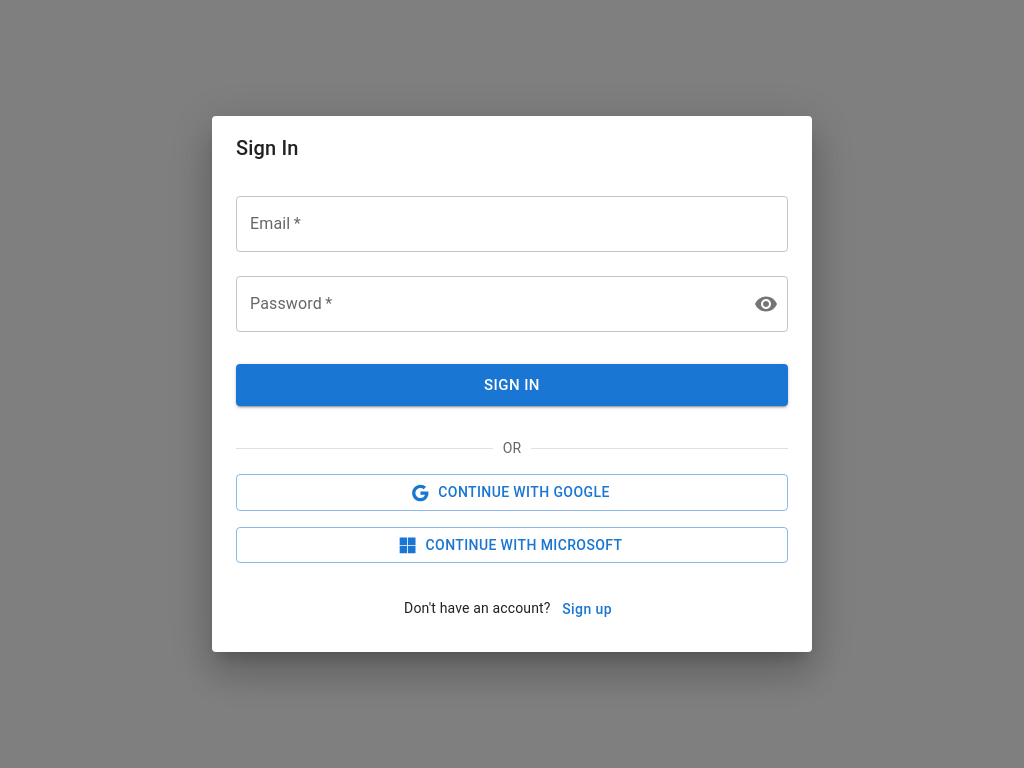
Test: AuthModal › shows loading state during form submission
The image size is (1024, 768).
Type "test@example.com" into the field labelled "Email *" at {"x": 512, "y": 224}, box [236,196,788,252]
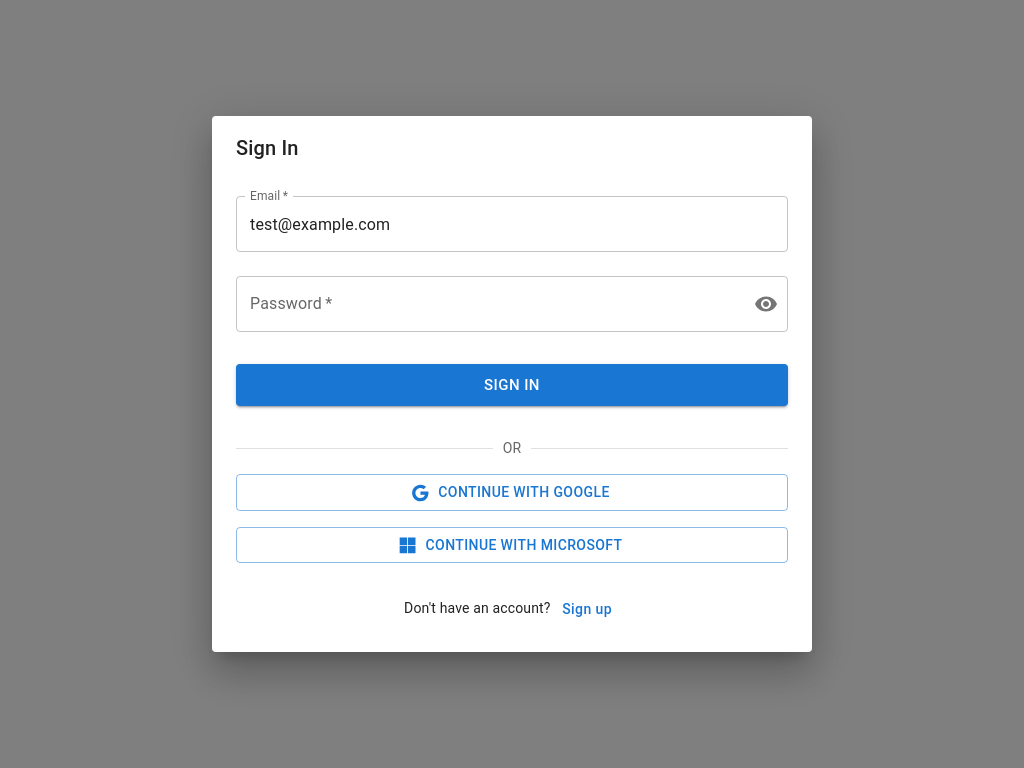
Type "password123" into the password field labelled "Password *" at {"x": 487, "y": 304}, box [236,276,738,332]
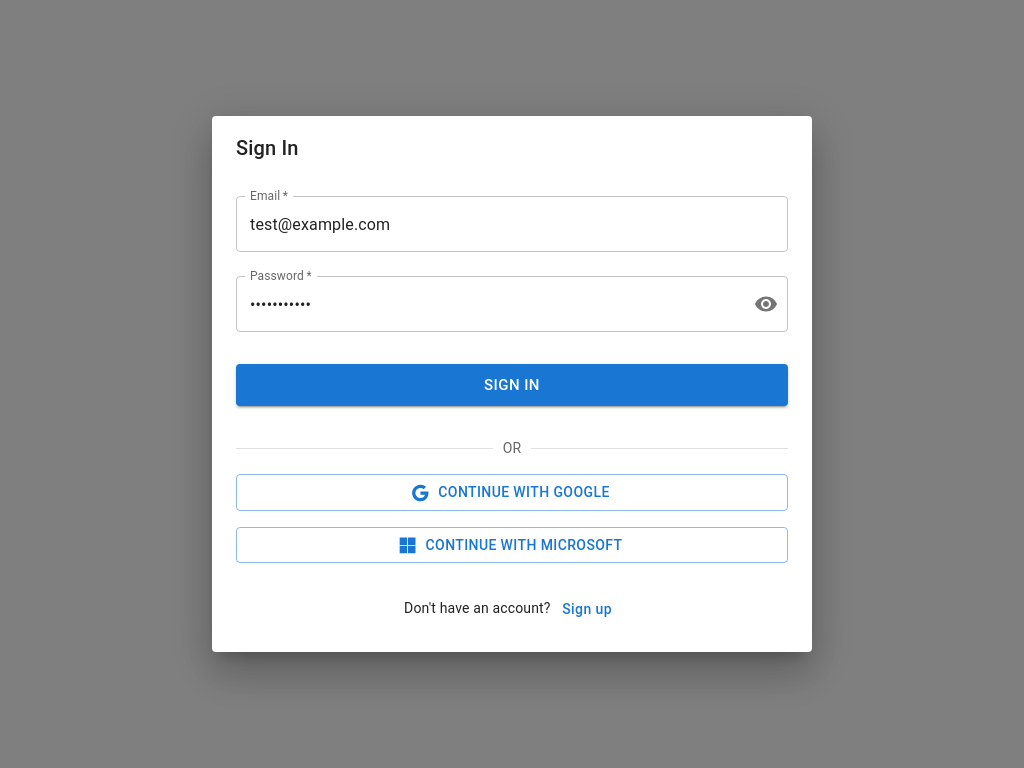
Click the button with test id "auth-submit" at {"x": 512, "y": 385}, box [236,364,788,406]
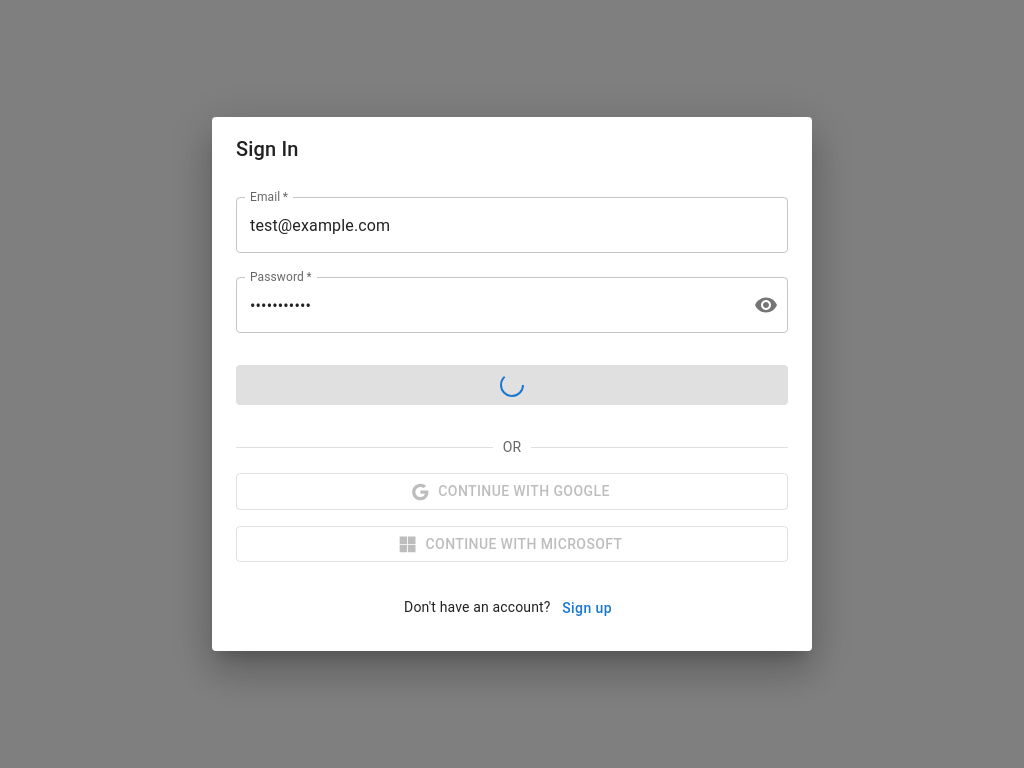
Expected: the progress indicator is shown, [500,373,524,397]
Expected: the button with test id "auth-submit" is disabled, [236,365,788,405]
